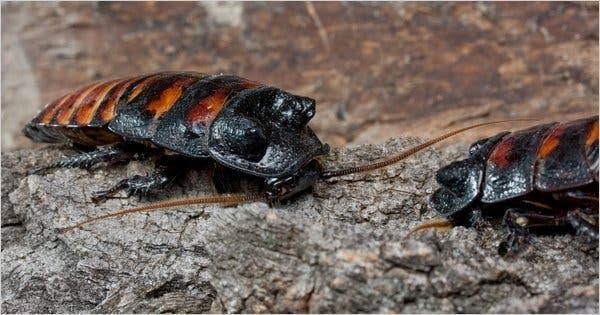cockroach: (30, 72, 323, 196), (434, 116, 598, 232)
